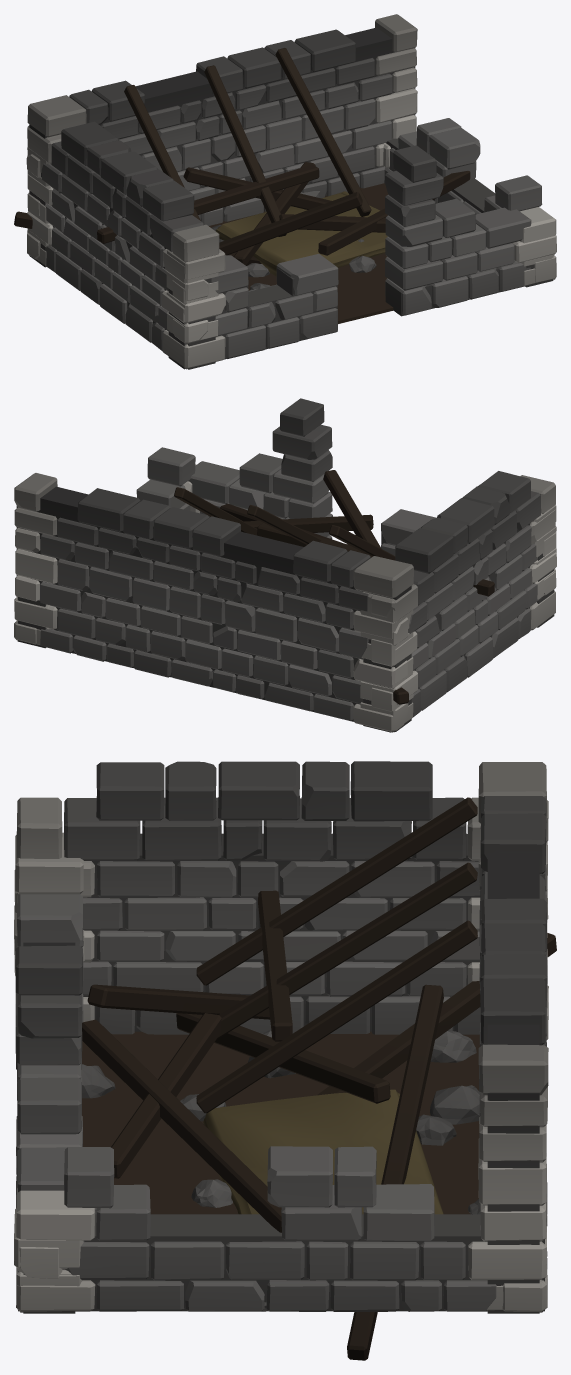
The model's file is house_destroyed.glb.
The picture shows the model from 3 angles, top to bottom: view 1: azimuth 30°, elevation 25°; view 2: azimuth 150°, elevation 25°; view 3: azimuth 270°, elevation 25°; orthographic projection. The views are drawn at different scales.
Parts seen in each view (by area): view 1: house_destroyed; view 2: house_destroyed; view 3: house_destroyed.
Boxes of the visible parts, box(x1,y1,x2,y2) form: house_destroyed: box(14, 14, 556, 369); house_destroyed: box(14, 398, 556, 732); house_destroyed: box(14, 761, 556, 1360).
Size of what is drawn, in the model's own units: 8 by 3.94 by 5.85.
